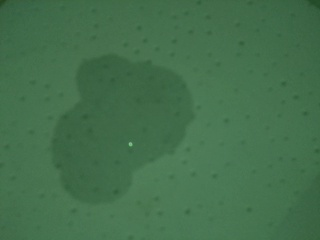Water_detected: (58, 77, 170, 186)
